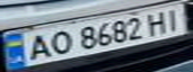2: (124, 15, 148, 42)
6: (93, 20, 115, 47)
8: (75, 22, 96, 51), (109, 17, 130, 44)
A: (21, 32, 54, 62)
H: (142, 8, 172, 36)
I: (160, 4, 187, 33)
O: (42, 27, 75, 56)
